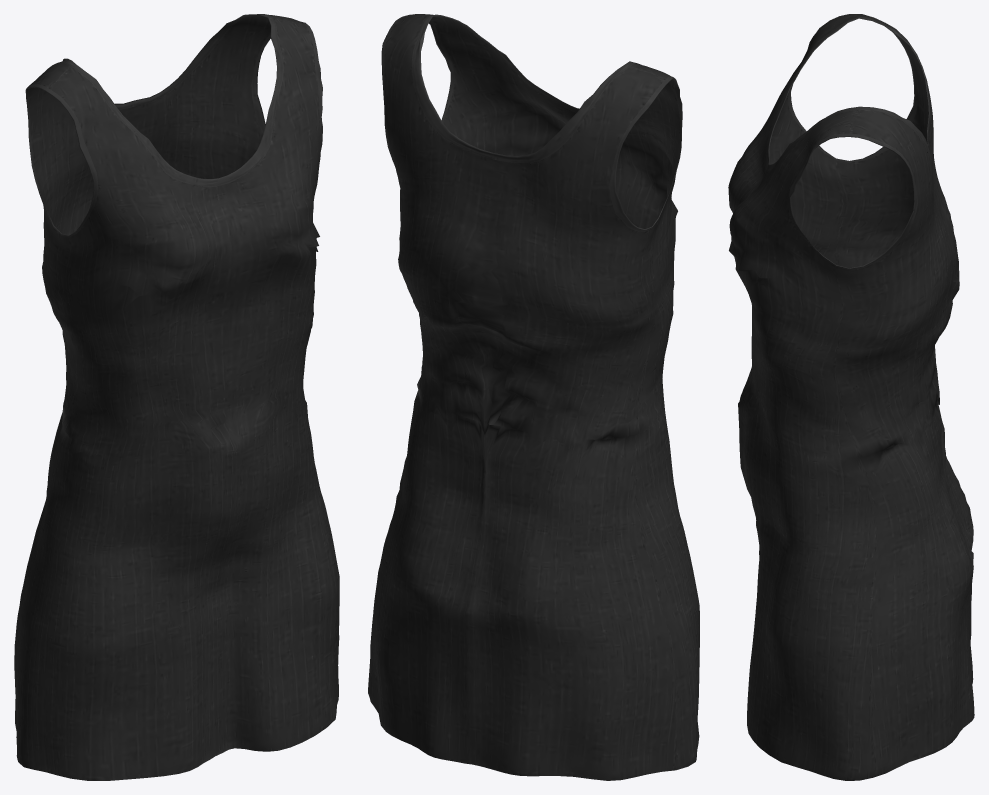
Rendered from toigo-shift-dress.glb.
The picture shows the model from 3 angles, left to right: view 1: azimuth 30°, elevation 25°; view 2: azimuth 150°, elevation 25°; view 3: azimuth 270°, elevation 25°; orthographic projection. The views are drawn at different scales.
Parts seen in each view (by area): view 1: Human.toigo_shift_dress; view 2: Human.toigo_shift_dress; view 3: Human.toigo_shift_dress.
Part boxes in pixels (<box>): Human.toigo_shift_dress: <box>14,14,339,780</box>; Human.toigo_shift_dress: <box>368,14,699,780</box>; Human.toigo_shift_dress: <box>728,14,974,780</box>.
Bounding box in the file's own units: 0.4737 × 0.9823 × 0.3384.
1 material, 1 textured.
